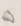microplastic: (2, 10, 14, 23)
